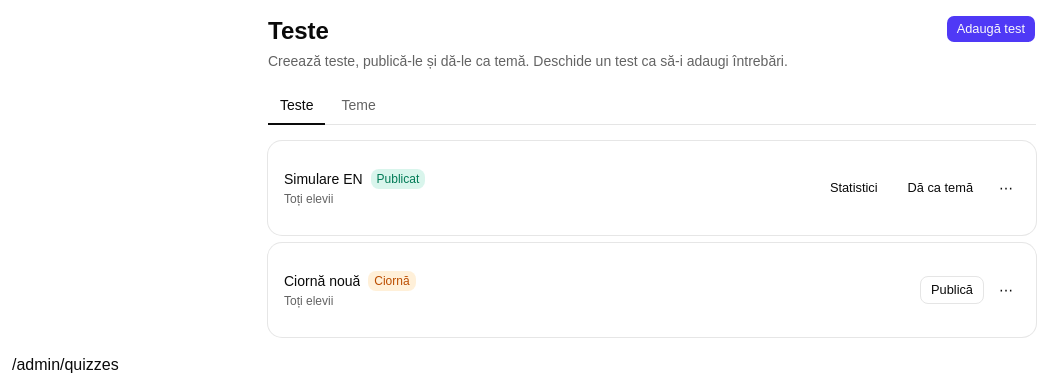
Test: AdminQuizzesPage › opens the editor at its own address
Click the link "Simulare EN".
click(323, 179)  # box x1=284 y1=169 x2=363 y2=189
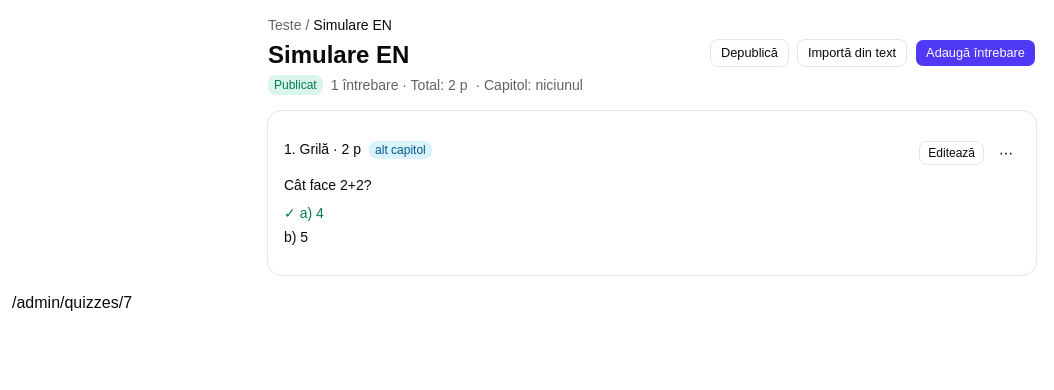
Expected: the text "Cât face 2+2?" is shown, x1=284 y1=177 x2=372 y2=193
Expected: the text with test id "where" reads "/admin/quizzes/7", x1=12 y1=294 x2=132 y2=311
